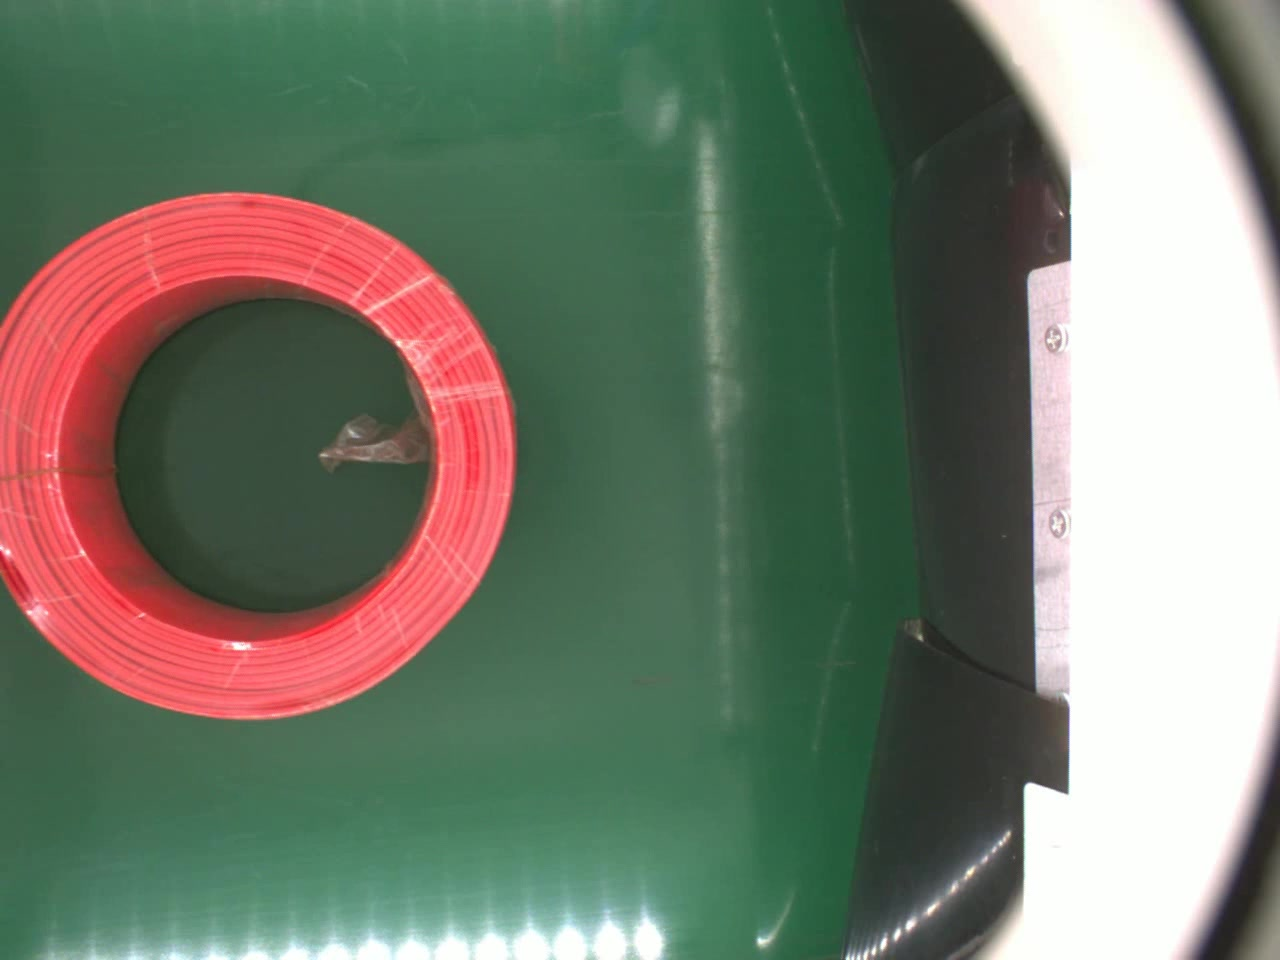red: (0, 189, 525, 722)
